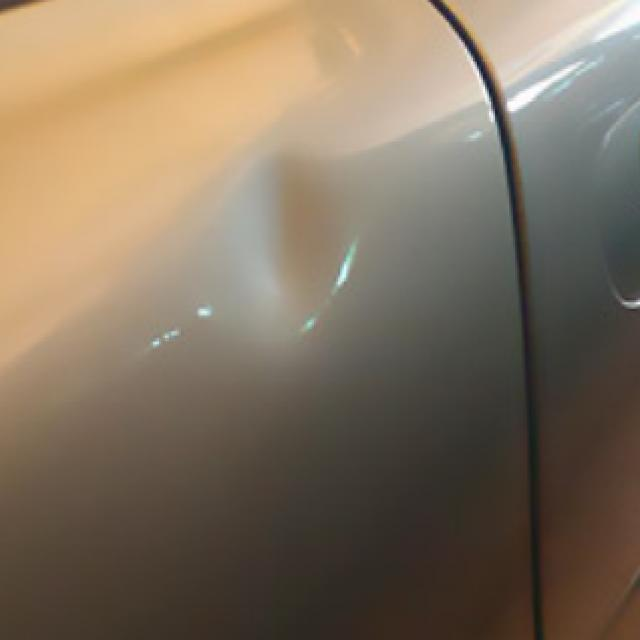dents: (228, 140, 400, 362)
